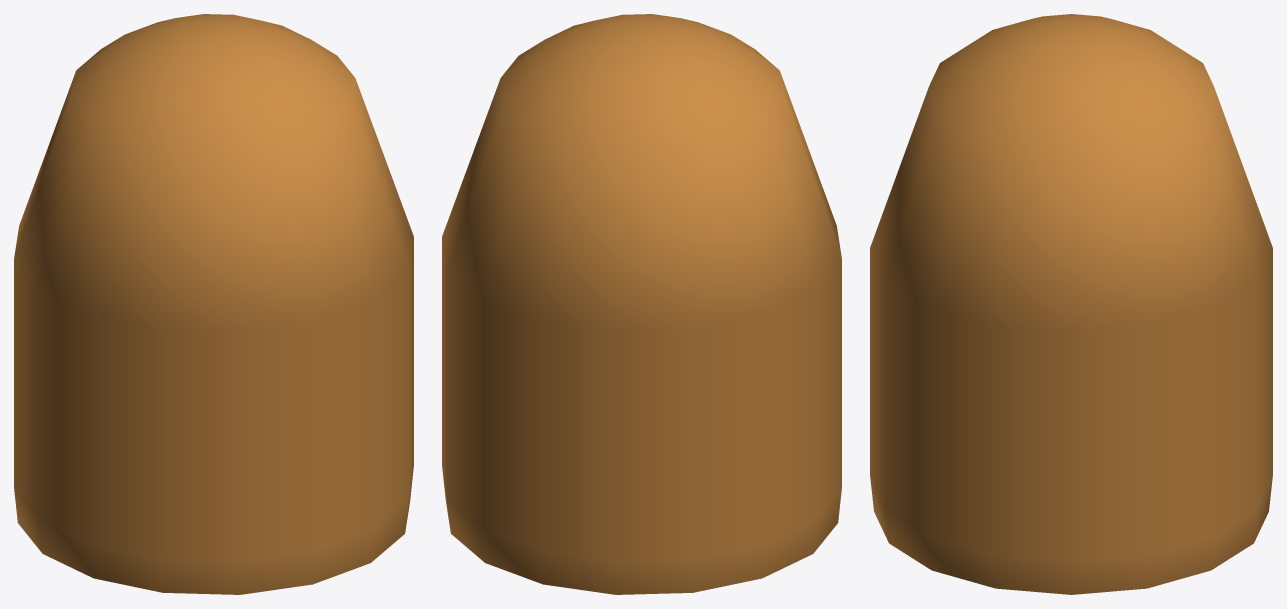
Rendered from ant.glb.
3 views of the same model, side by side, from view 1: azimuth 30°, elevation 25°; view 2: azimuth 150°, elevation 25°; view 3: azimuth 270°, elevation 25° (orthographic).
Visible parts, largest first — view 1: ant-node; view 2: ant-node; view 3: ant-node.
Part boxes in pixels (<box>): ant-node: <box>14,14,413,594</box>; ant-node: <box>442,14,841,594</box>; ant-node: <box>870,14,1272,594</box>.
Bounding box in the file's own units: 1.4 × 1.84 × 1.4.
